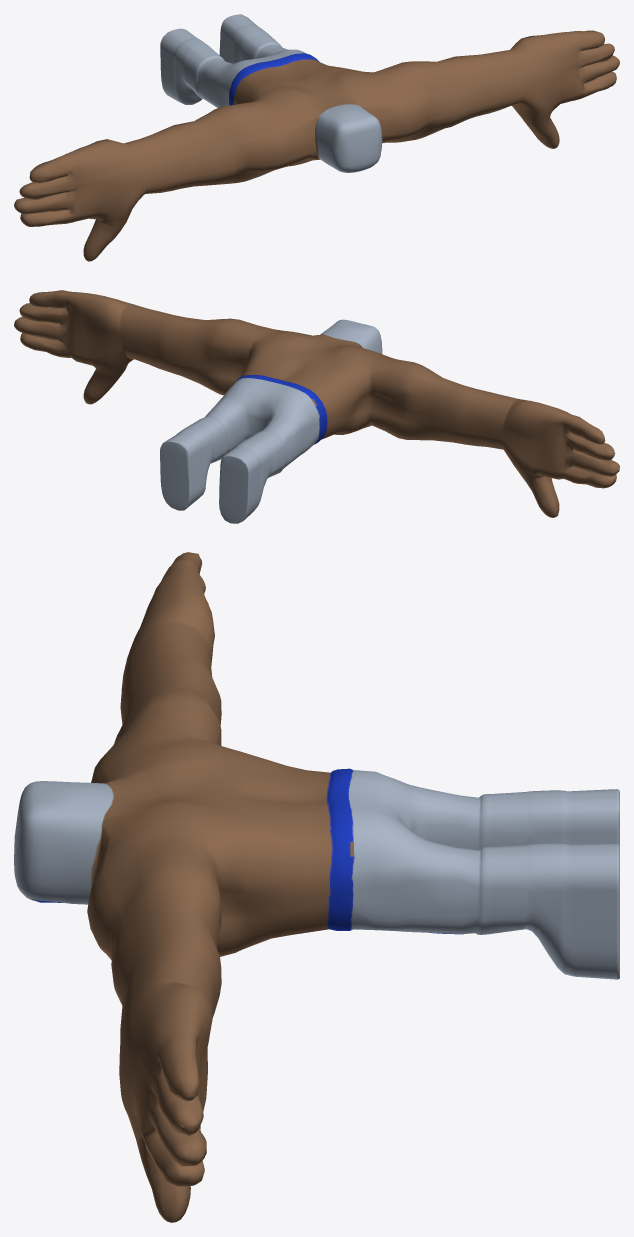
The model's file is TestModel.fbx.
3 views of the same model, one above another, from view 1: azimuth 30°, elevation 25°; view 2: azimuth 150°, elevation 25°; view 3: azimuth 270°, elevation 25° (orthographic). The views are drawn at different scales.
Parts seen in each view (by area): view 1: polySurface16; view 2: polySurface16; view 3: polySurface16.
Boxes of the visible parts, bbox=[...] form: polySurface16: bbox=[14, 14, 619, 261]; polySurface16: bbox=[14, 290, 619, 523]; polySurface16: bbox=[14, 552, 619, 1222].
Size of the model in its own units: 14.96 by 2.81 by 6.83.
